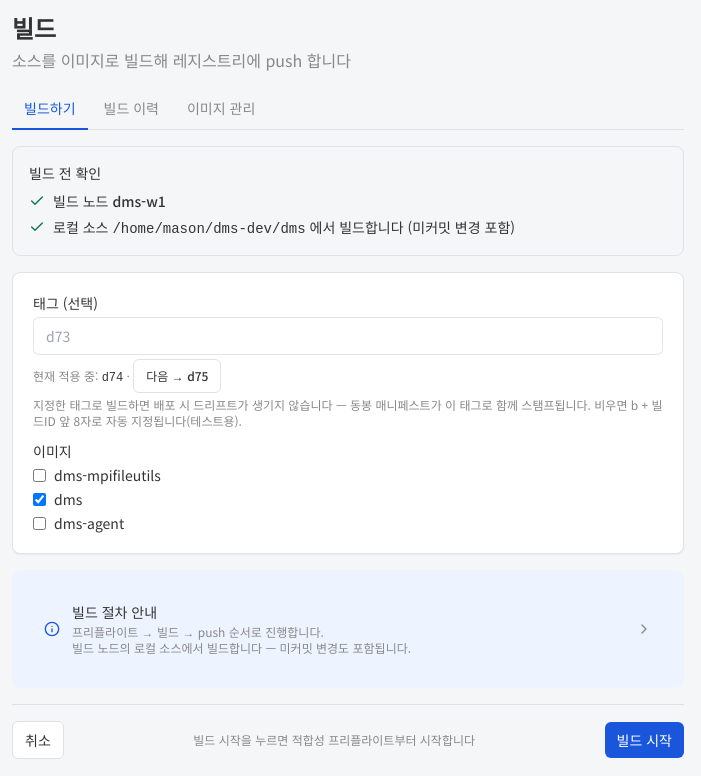
it: BuildForm — 빌드하기(기본 하위 페이지) › 현재 적용 중 태그를 보여주고 다음 태그(dN+1)를 제안한다
Expected: the text "d74" is shown, [102,371,123,385]
Click the button "다음 → d75". click: (177, 376)
box: [133,359,221,393]
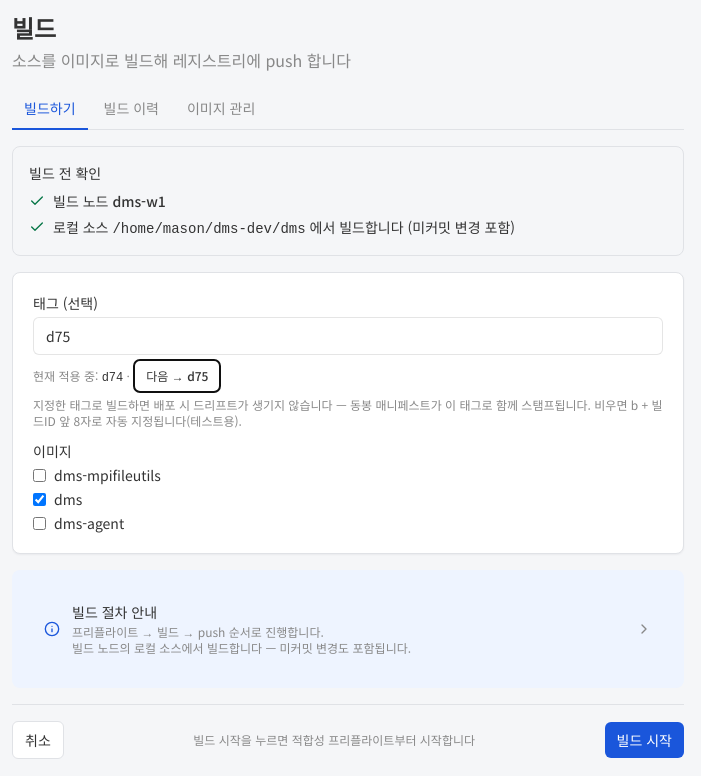
Result: the field labelled "태그" holds "d75" at [33,317,663,355]
